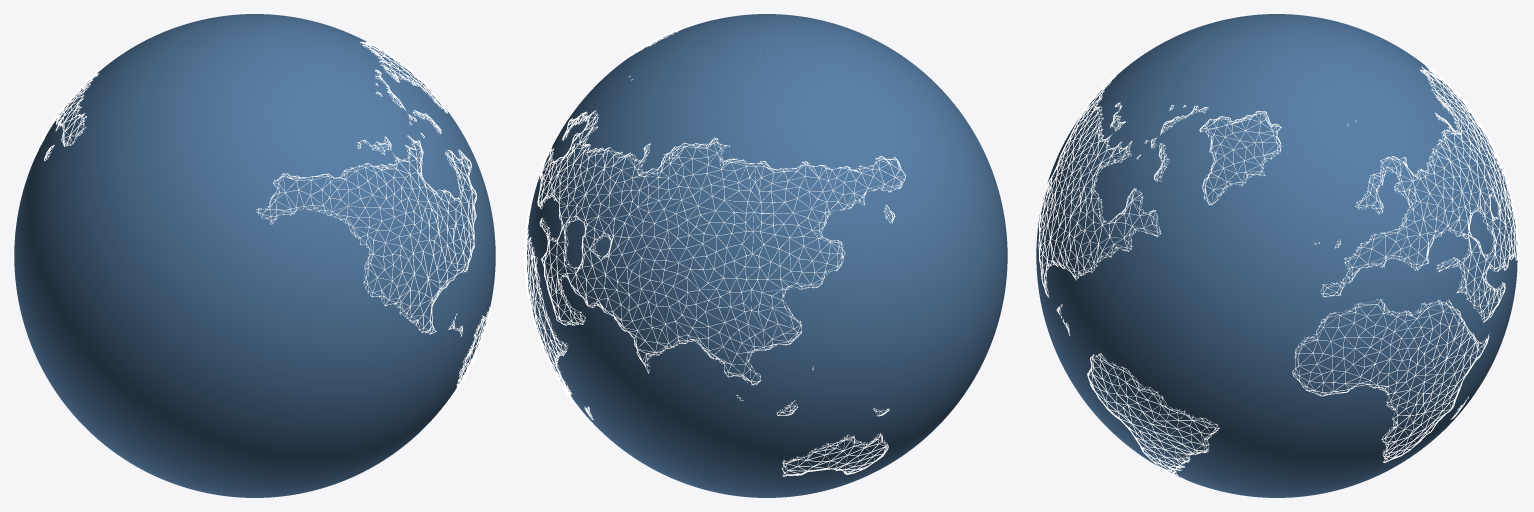
3 renders of one model, left to right at view 1: azimuth 30°, elevation 25°; view 2: azimuth 150°, elevation 25°; view 3: azimuth 270°, elevation 25°, orthographic.
Visible parts, largest first — view 1: Water, Land; view 2: Water, Land; view 3: Water, Land.
Part boxes in pixels (x1,y1,x2,y2): Water: (14,14,495,497); Land: (33,32,490,429); Water: (527,14,1007,497); Land: (524,17,905,476); Water: (1036,14,1517,497); Land: (1038,52,1519,481).
Bounding box in the file's own units: 2.05 × 2.07 × 2.05.
